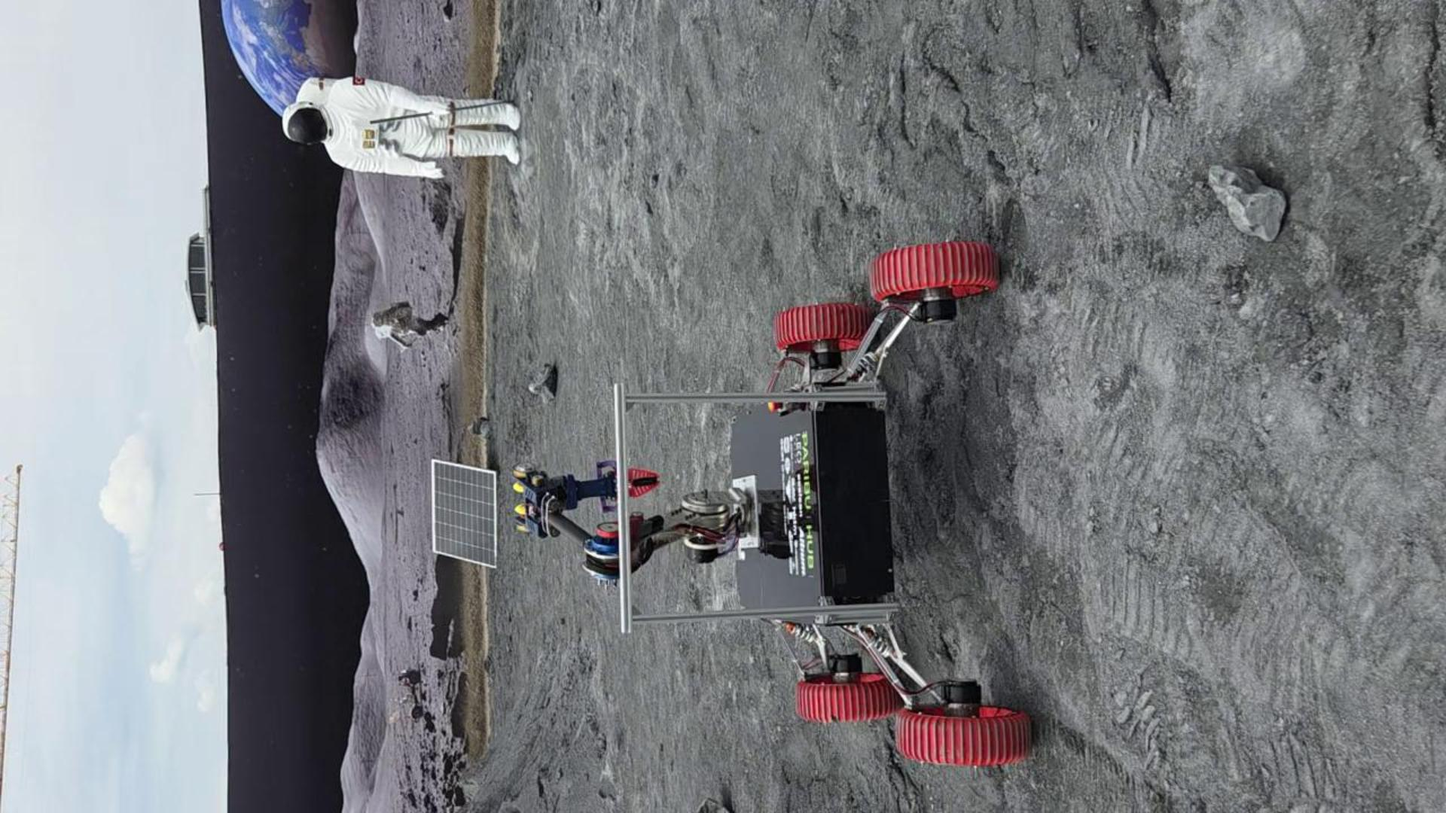rock: (1209, 165, 1284, 242), (528, 364, 557, 400)
